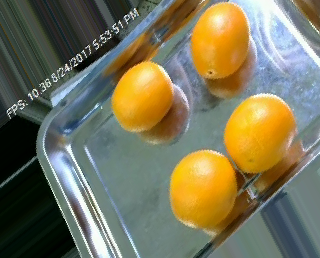Orange: (223, 92, 297, 174), (169, 148, 238, 229), (190, 2, 250, 80), (110, 60, 173, 133)
